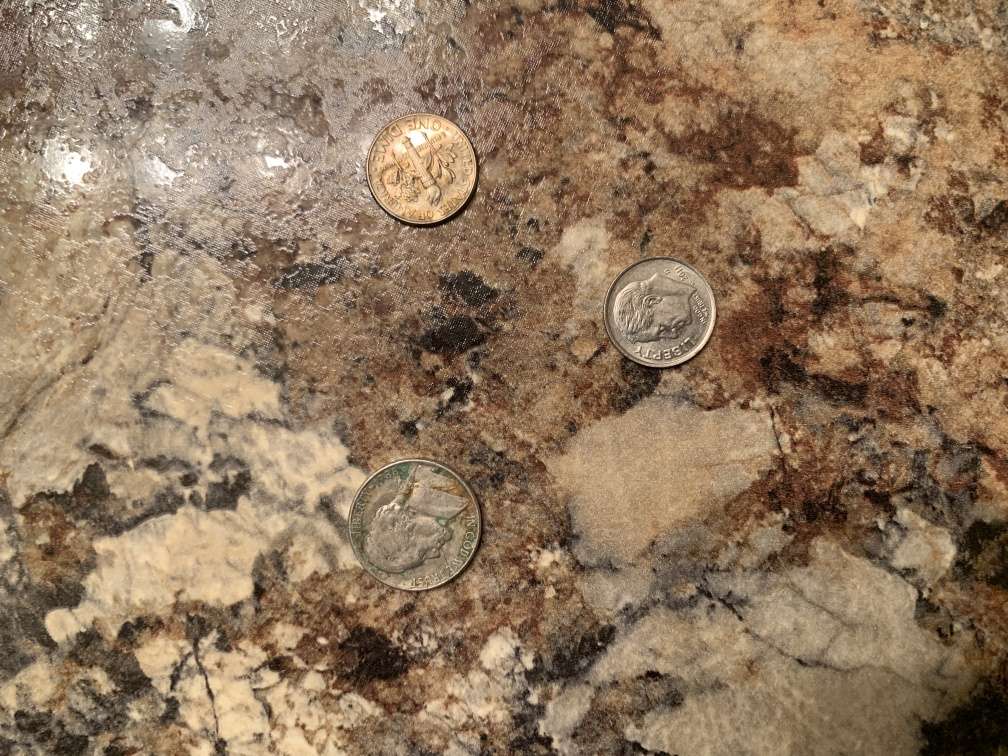dime: (362, 108, 484, 234), (600, 255, 720, 373)
nickel: (343, 455, 486, 597)
